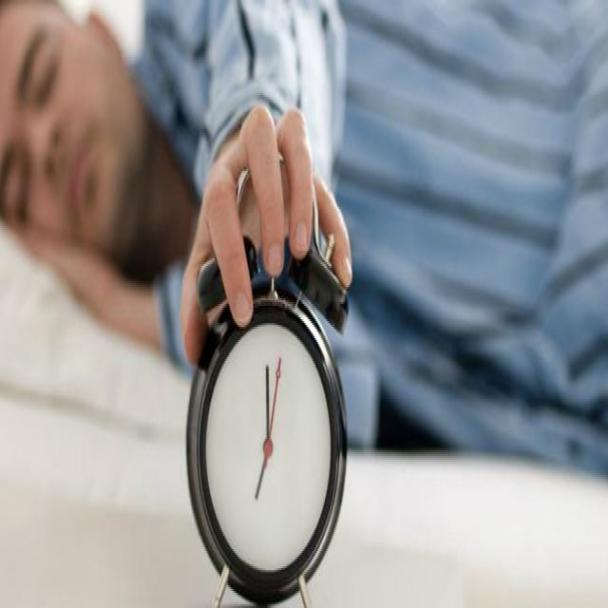Jam: (191, 295, 340, 598)
